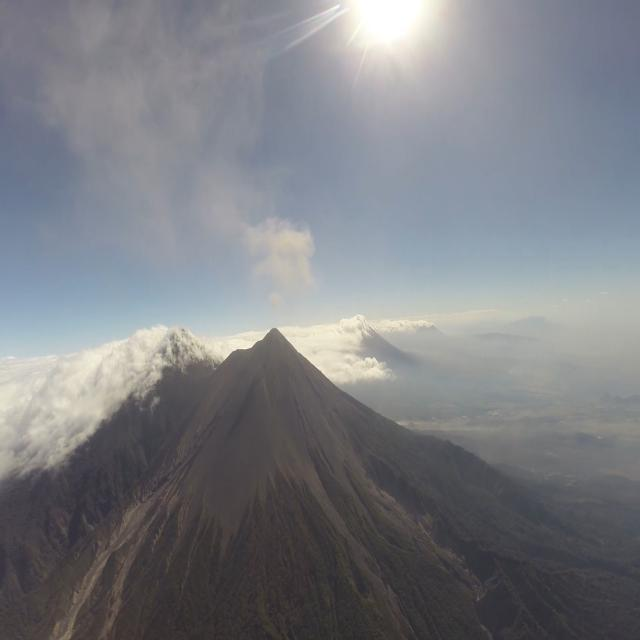Plume: (250, 212, 318, 310)
Summit: (250, 326, 287, 352)
